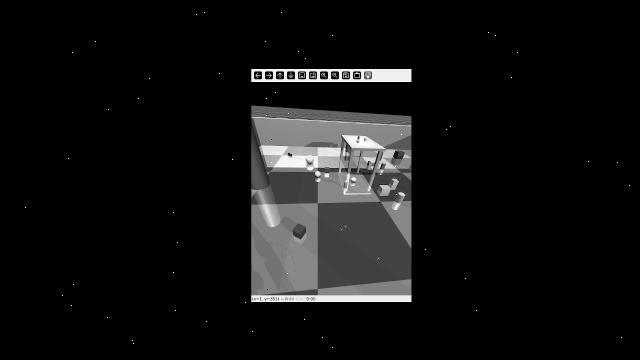cilindro: (250, 120, 279, 189), (395, 191, 407, 204), (380, 161, 389, 171), (342, 179, 349, 189), (346, 142, 352, 153), (285, 151, 295, 157), (380, 152, 386, 160), (357, 135, 360, 139)
cuadrado: (288, 220, 310, 240), (393, 148, 405, 160), (389, 175, 401, 186), (323, 164, 332, 176), (364, 135, 370, 141)
esfera: (303, 153, 318, 163), (351, 173, 361, 184), (314, 168, 322, 179), (354, 138, 362, 145)
rectangulo: (378, 181, 392, 195), (366, 159, 378, 167)
